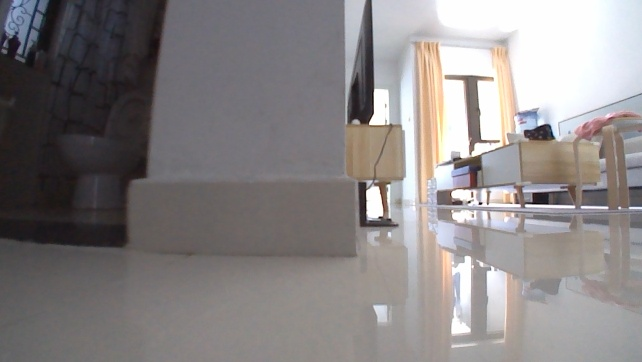blanket: (466, 202, 641, 215)
tea_table: (433, 133, 603, 206)
toilet: (54, 88, 150, 209)
wire: (364, 123, 395, 191)
